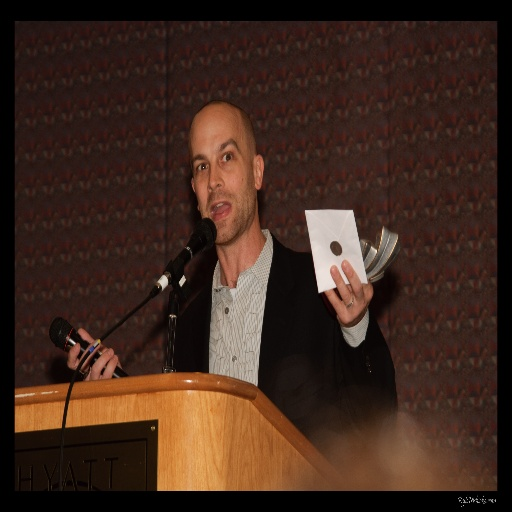hand: (326, 262, 375, 334), (64, 325, 122, 384)
